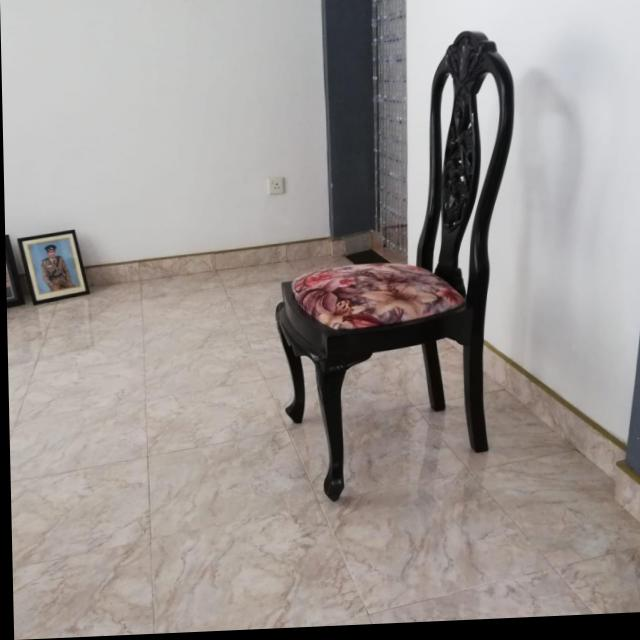Chair: (269, 32, 523, 505)
